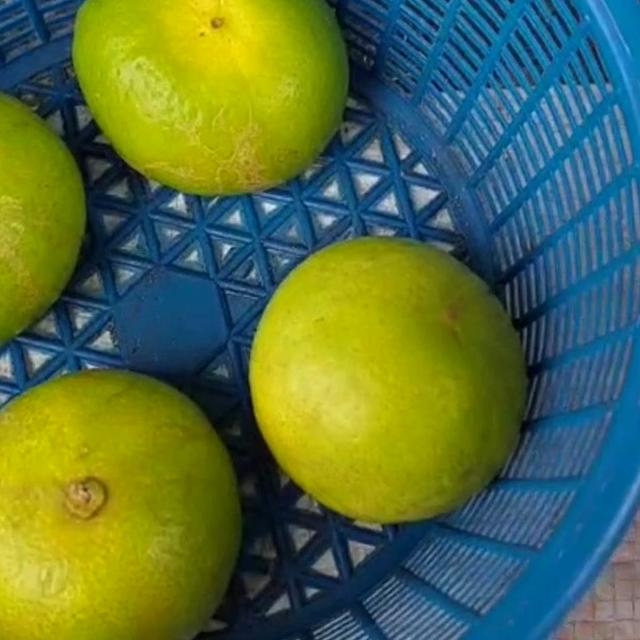lime: (241, 222, 544, 529), (0, 355, 261, 640), (60, 0, 361, 207), (0, 72, 94, 365)
